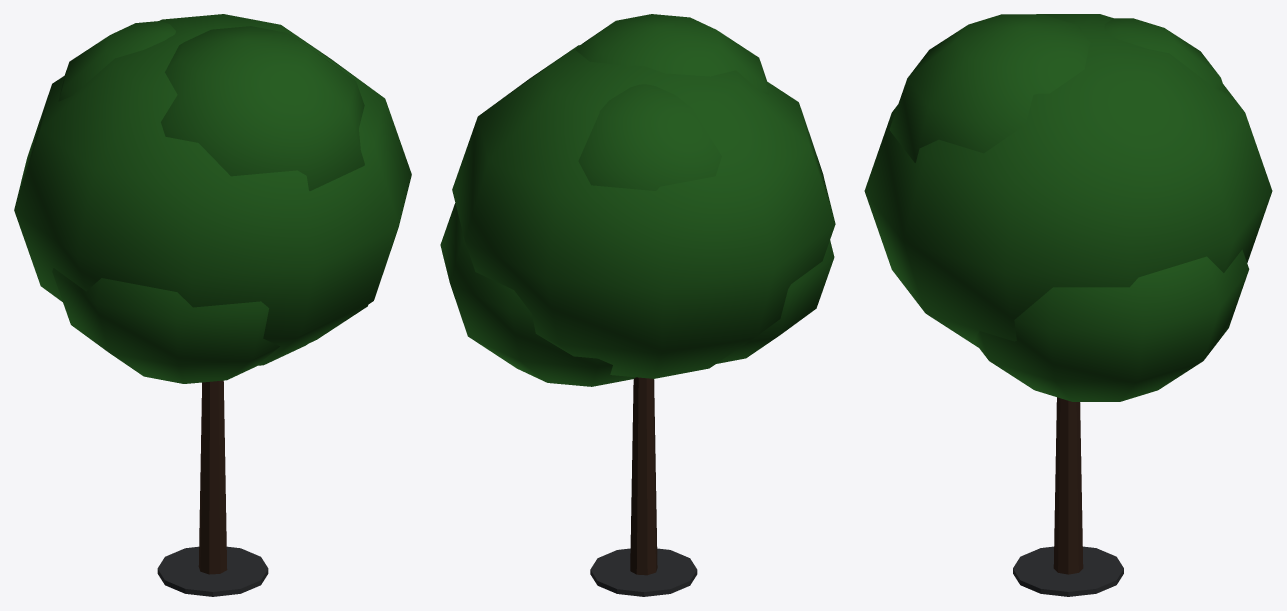
Rendered from PROP_REAL_Tree_B.glb.
3 renders of one model, left to right at view 1: azimuth 30°, elevation 25°; view 2: azimuth 150°, elevation 25°; view 3: azimuth 270°, elevation 25°, orthographic. The views are drawn at different scales.
Visible parts, largest first — view 1: PROP_REAL_Tree_B; view 2: PROP_REAL_Tree_B; view 3: PROP_REAL_Tree_B.
Boxes of the visible parts, left/top/right/bottom form: PROP_REAL_Tree_B: left=14, top=14, right=411, bottom=596; PROP_REAL_Tree_B: left=440, top=14, right=835, bottom=596; PROP_REAL_Tree_B: left=864, top=14, right=1272, bottom=596.
Size of the model in its own units: 4.26 by 6.55 by 4.4.
